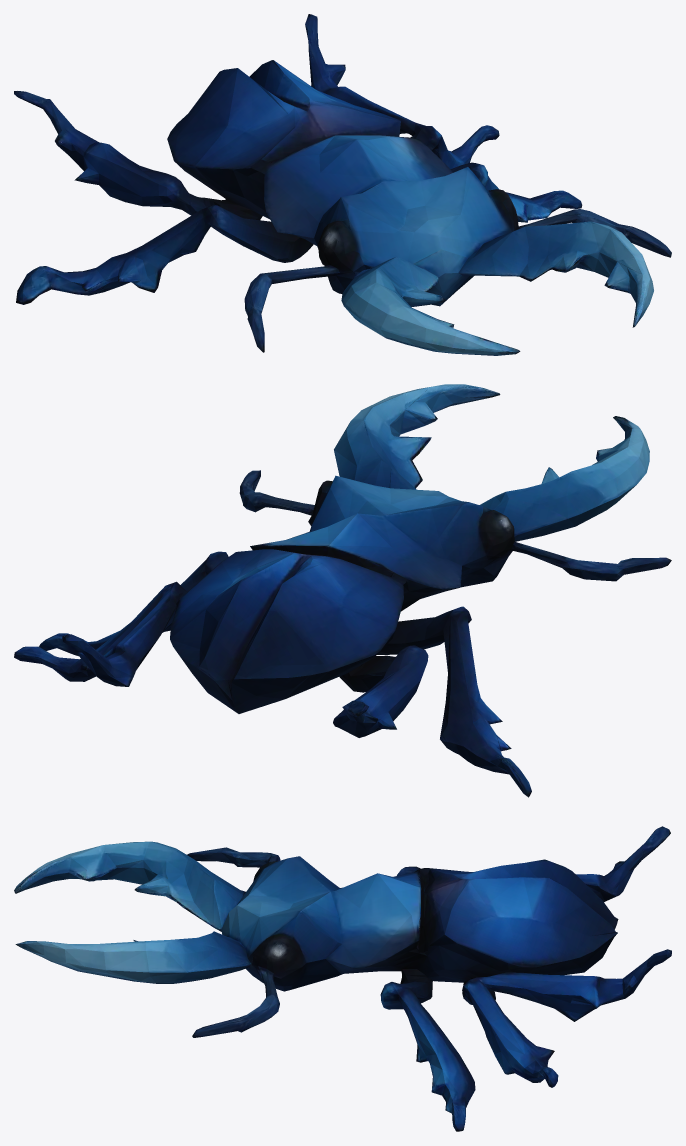
The model's file is stag_beetle.glb.
3 renders of one model, top to bottom at view 1: azimuth 30°, elevation 25°; view 2: azimuth 150°, elevation 25°; view 3: azimuth 270°, elevation 25°, orthographic. The views are drawn at different scales.
Visible parts, largest first — view 1: world; view 2: world; view 3: world.
Part boxes in pixels (x1=…): world: x1=14, y1=14, x2=671, y2=355; world: x1=14, y1=384, x2=671, y2=797; world: x1=14, y1=826, x2=671, y2=1131.
Size of the model in its own units: 0.7973 by 0.2501 by 0.9969.
Materials: 1 (1 with a texture image).
